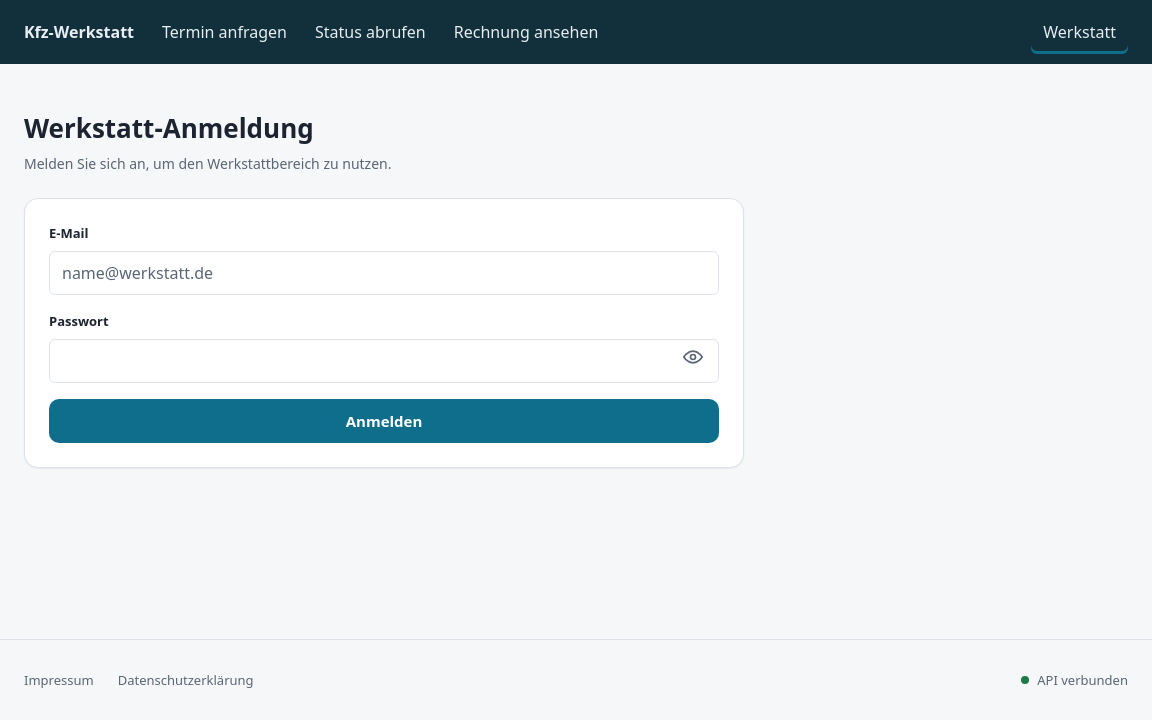
LoginPage › shows the rate-limit warning on 429
Type "anna@werkstatt.de" into the field labelled "E-Mail" at (384, 273), box 49,251 -> 719,295
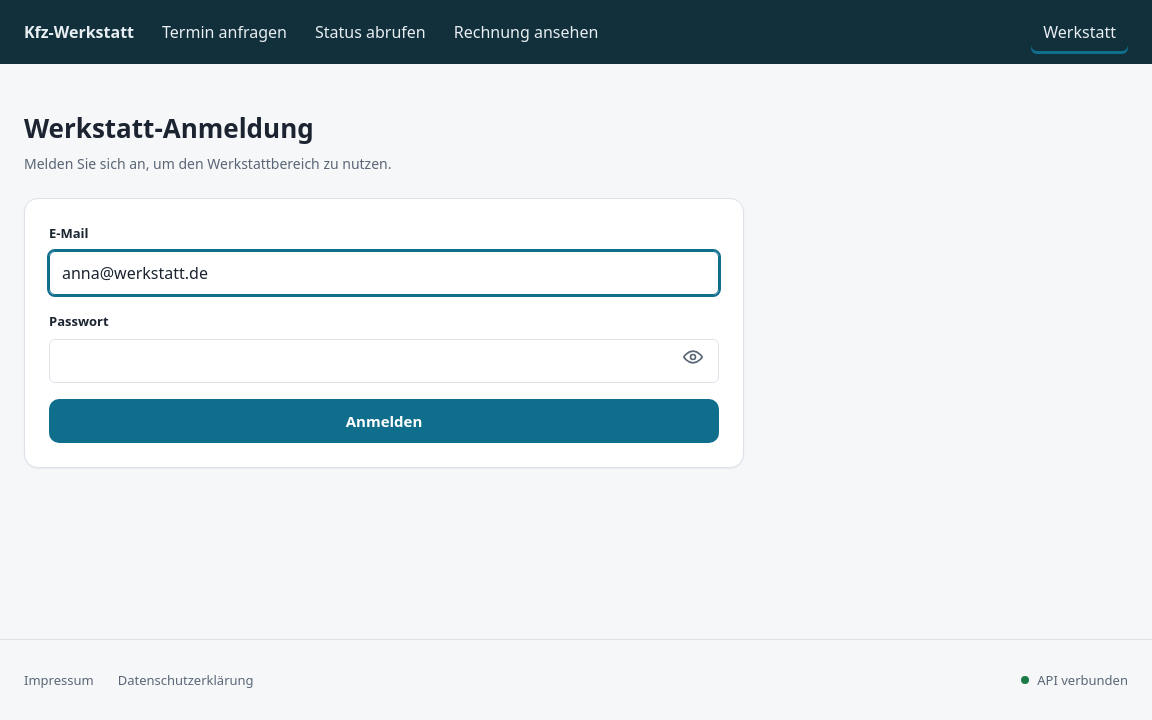
Type "geheim" into the password field labelled "Passwort" at (384, 362), box 49,340 -> 719,384
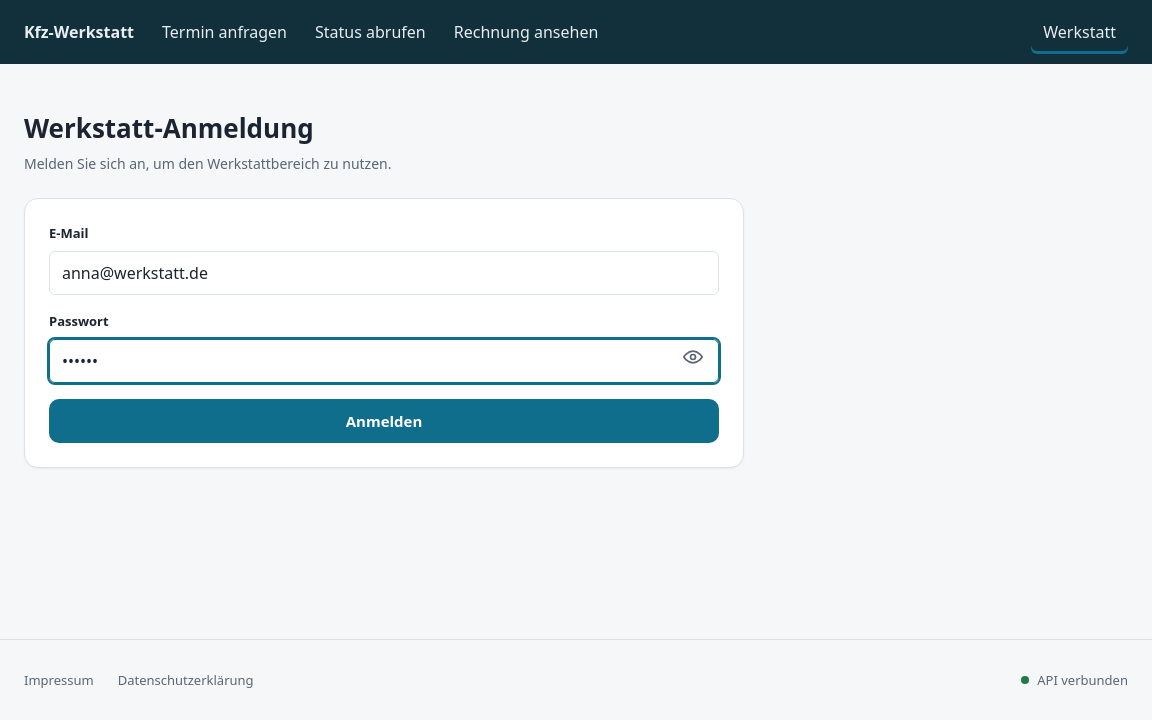
Click the button "Anmelden" at (384, 422), box 49,400 -> 719,444
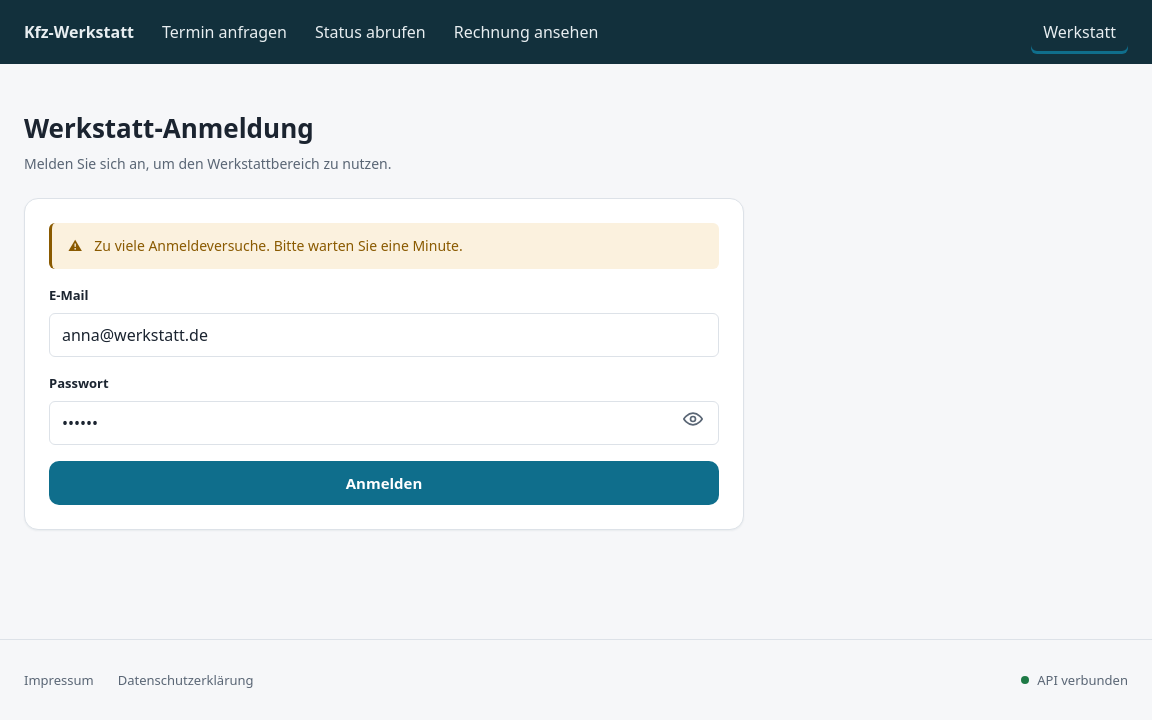
Result: the text "Zu viele Anmeldeversuche. Bitte warten Sie eine Minute." is shown at 94,236 -> 463,255
